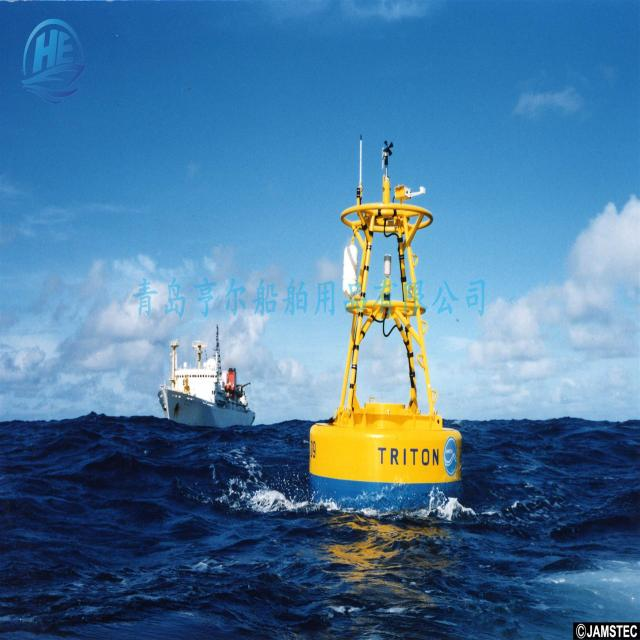buoy: (307, 138, 460, 513)
passenger ship: (161, 323, 255, 426)
